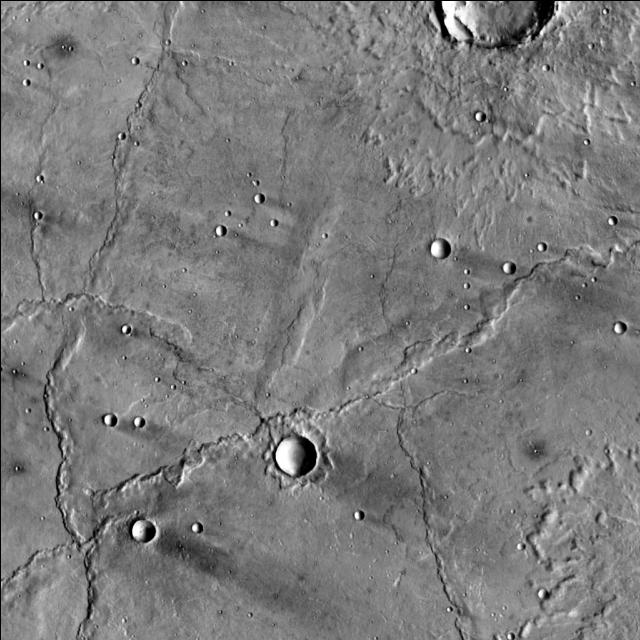crater: (269, 436, 310, 477), (128, 520, 150, 542), (426, 239, 446, 259), (98, 413, 111, 426), (186, 523, 198, 535), (533, 588, 545, 600), (498, 262, 510, 274), (210, 225, 222, 237), (348, 511, 358, 521), (610, 324, 620, 334), (470, 111, 480, 121), (248, 196, 258, 206), (128, 420, 138, 430), (115, 326, 125, 336), (262, 220, 272, 229), (125, 57, 134, 65), (602, 220, 610, 228), (27, 212, 35, 220), (29, 174, 37, 182), (512, 544, 520, 552), (24, 70, 32, 78), (532, 247, 540, 254), (544, 59, 552, 66), (510, 625, 517, 633), (120, 126, 128, 132)
